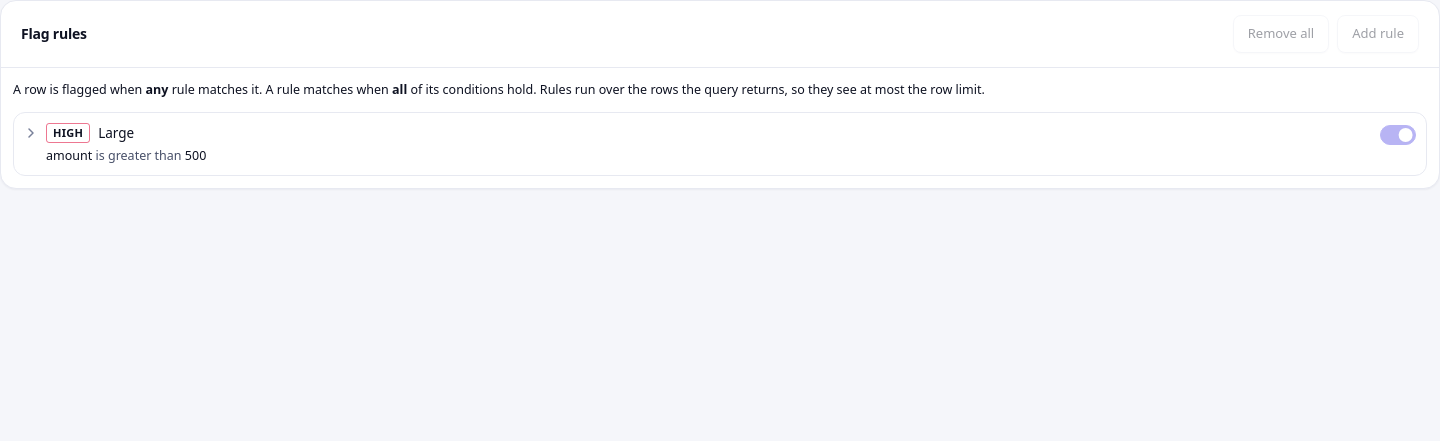
Test: FlagRuleEditor › disables every control while a save is in flight
The width and height of the screenshot is (1440, 441).
Step 1. Click the button "high Large amount is greater than 500" → (68, 133), box [24,123,1372,164]
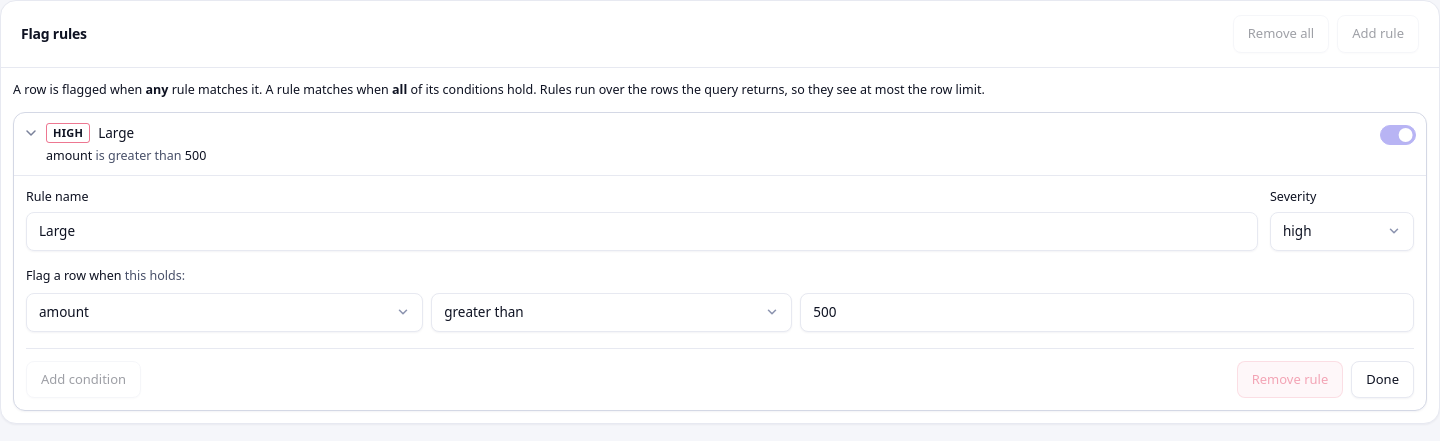
Expected: the button "Add rule" is disabled, [1337,15,1419,52]
Expected: the dropdown named "Comparison" is disabled, [431,293,792,332]
